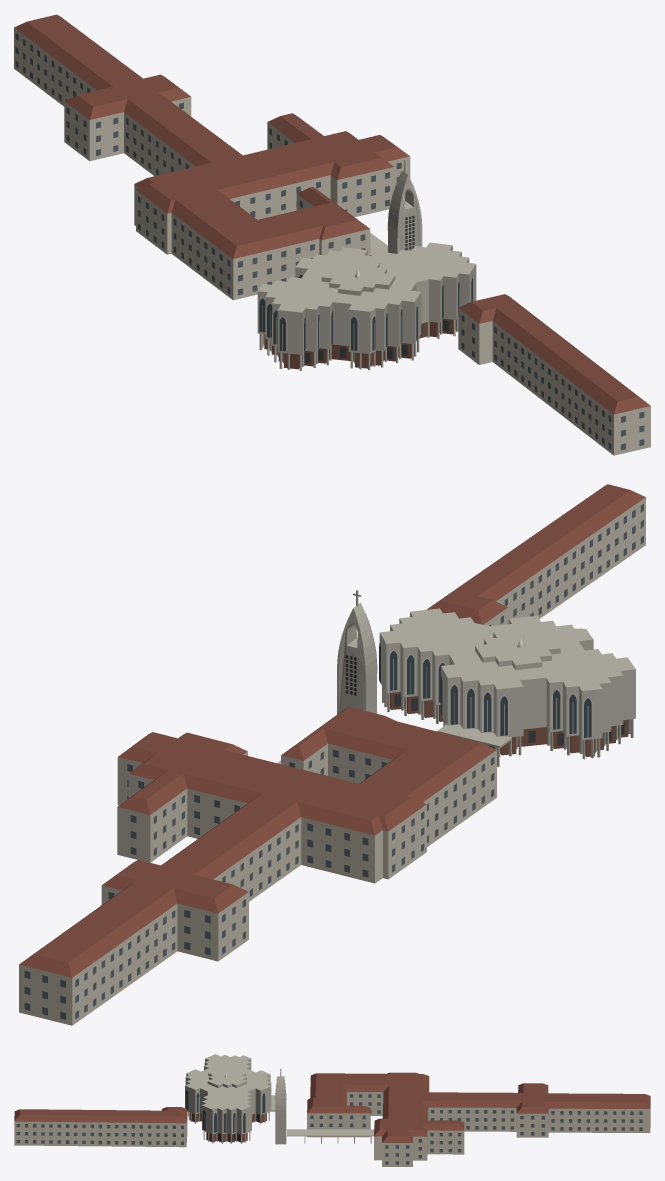
The model's file is westminster-abbey-mission-near.glb.
3 renders of one model, top to bottom at view 1: azimuth 30°, elevation 25°; view 2: azimuth 150°, elevation 25°; view 3: azimuth 270°, elevation 25°, orthographic. The views are drawn at different scales.
Parts seen in each view (by area): view 1: westminster-abbey-mission-0-roof, westminster-abbey-mission-0-wall, westminster-abbey-mission-0-concrete, westminster-abbey-mission-0-glass, westminster-abbey-mission-0-glow, westminster-abbey-mission-0-brick, westminster-abbey-mission-0-trim, westminster-abbey-mission-0-recess; view 2: westminster-abbey-mission-0-roof, westminster-abbey-mission-0-wall, westminster-abbey-mission-0-concrete, westminster-abbey-mission-0-glass, westminster-abbey-mission-0-glow, westminster-abbey-mission-0-trim, westminster-abbey-mission-0-brick, westminster-abbey-mission-0-recess; view 3: westminster-abbey-mission-0-roof, westminster-abbey-mission-0-wall, westminster-abbey-mission-0-concrete, westminster-abbey-mission-0-glass, westminster-abbey-mission-0-glow, westminster-abbey-mission-0-brick, westminster-abbey-mission-0-trim.
Part boxes in pixels (box(x1,y1,x2,y2)): westminster-abbey-mission-0-roof: box(14, 14, 650, 414); westminster-abbey-mission-0-wall: box(14, 28, 650, 455); westminster-abbey-mission-0-concrete: box(257, 159, 476, 370); westminster-abbey-mission-0-glass: box(15, 33, 644, 450); westminster-abbey-mission-0-glow: box(259, 274, 472, 351); westminster-abbey-mission-0-brick: box(264, 318, 455, 369); westminster-abbey-mission-0-trim: box(258, 179, 472, 352); westminster-abbey-mission-0-recess: box(304, 215, 448, 363); westminster-abbey-mission-0-roof: box(19, 484, 645, 977); westminster-abbey-mission-0-wall: box(19, 497, 645, 1025); westminster-abbey-mission-0-concrete: box(277, 590, 635, 766); westminster-abbey-mission-0-glass: box(24, 504, 643, 1019); westminster-abbey-mission-0-glow: box(379, 642, 591, 737); westminster-abbey-mission-0-trim: box(337, 613, 592, 738); westminster-abbey-mission-0-brick: box(390, 692, 628, 756); westminster-abbey-mission-0-recess: box(345, 655, 624, 748); westminster-abbey-mission-0-roof: box(14, 1072, 650, 1142); westminster-abbey-mission-0-wall: box(14, 1081, 650, 1166); westminster-abbey-mission-0-concrete: box(185, 1054, 374, 1144); westminster-abbey-mission-0-glass: box(16, 1094, 642, 1164); westminster-abbey-mission-0-glow: box(185, 1090, 265, 1132); westminster-abbey-mission-0-brick: box(189, 1112, 266, 1142); westminster-abbey-mission-0-trim: box(185, 1085, 286, 1133).
Bounding box in the file's own units: 72.93 × 31.2 × 250.
